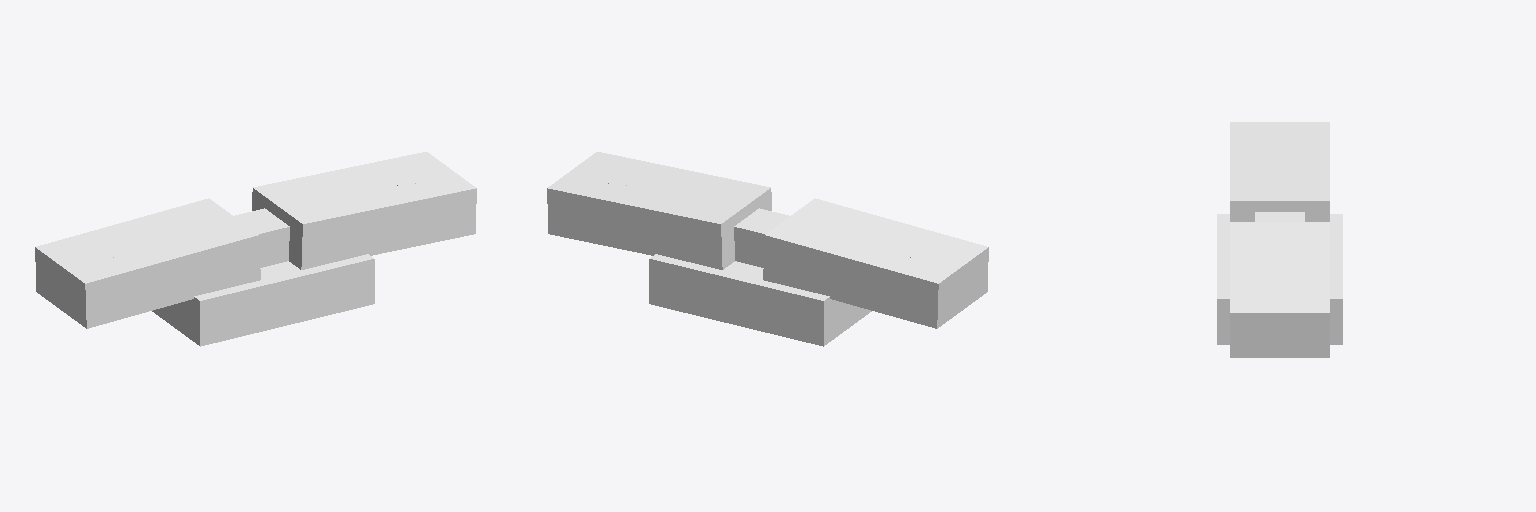
Rendered from r0p8ox4flaai.obj.
The picture shows the model from 3 angles: view 1: azimuth 30°, elevation 25°; view 2: azimuth 150°, elevation 25°; view 3: azimuth 270°, elevation 25°; orthographic projection.
Parts seen in each view (by area): view 1: meshes_0-4, meshes_2-2, meshes_5-2, meshes_6-4, meshes_3-4, meshes_2-4, meshes_5-4, meshes_3-2, meshes_6-2, meshes_3-1, meshes_0-2, meshes_0-1 (+5 smaller); view 2: meshes_0-5, meshes_2-2, meshes_5-2, meshes_6-5, meshes_3-5, meshes_2-5, meshes_5-5, meshes_3-2, meshes_6-2, meshes_3-1, meshes_0-2, meshes_0-1 (+5 smaller); view 3: meshes_5-2, meshes_6-0, meshes_2-2, meshes_6-2, meshes_3-2, meshes_0-2, meshes_2-0, meshes_0-0, meshes_7-2, meshes_4-2.
Boxes of the visible parts, x1=… form: meshes_0-4: x1=200, y1=259, x2=374, y2=346; meshes_2-2: x1=122, y1=198, x2=258, y2=258; meshes_5-2: x1=253, y1=170, x2=388, y2=223; meshes_6-4: x1=388, y1=188, x2=476, y2=251; meshes_3-4: x1=85, y1=260, x2=173, y2=328; meshes_2-4: x1=172, y1=235, x2=260, y2=303; meshes_5-4: x1=301, y1=206, x2=389, y2=269; meshes_3-2: x1=36, y1=223, x2=171, y2=283; meshes_6-2: x1=340, y1=152, x2=475, y2=205; meshes_3-1: x1=35, y1=247, x2=86, y2=328; meshes_0-2: x1=194, y1=254, x2=373, y2=300; meshes_0-1: x1=152, y1=297, x2=199, y2=345; meshes_0-5: x1=649, y1=259, x2=823, y2=346; meshes_2-2: x1=765, y1=198, x2=901, y2=258; meshes_5-2: x1=635, y1=170, x2=770, y2=223; meshes_6-5: x1=547, y1=188, x2=635, y2=251; meshes_3-5: x1=850, y1=260, x2=938, y2=328; meshes_2-5: x1=763, y1=235, x2=851, y2=303; meshes_5-5: x1=634, y1=206, x2=722, y2=269; meshes_3-2: x1=852, y1=223, x2=987, y2=283; meshes_6-2: x1=548, y1=152, x2=683, y2=205; meshes_3-1: x1=937, y1=247, x2=988, y2=328; meshes_0-2: x1=650, y1=254, x2=829, y2=300; meshes_0-1: x1=824, y1=297, x2=871, y2=345; meshes_5-2: x1=1230, y1=222, x2=1329, y2=267; meshes_6-0: x1=1230, y1=313, x2=1329, y2=357; meshes_2-2: x1=1230, y1=161, x2=1329, y2=200; meshes_6-2: x1=1230, y1=268, x2=1329, y2=312; meshes_3-2: x1=1230, y1=122, x2=1329, y2=160; meshes_0-2: x1=1217, y1=214, x2=1342, y2=298; meshes_2-0: x1=1230, y1=201, x2=1329, y2=221; meshes_0-0: x1=1217, y1=299, x2=1342, y2=344; meshes_7-2: x1=1255, y1=273, x2=1304, y2=295; meshes_4-2: x1=1255, y1=126, x2=1304, y2=145.
Size of the model in its own units: 17.99 by 4.08 by 5.